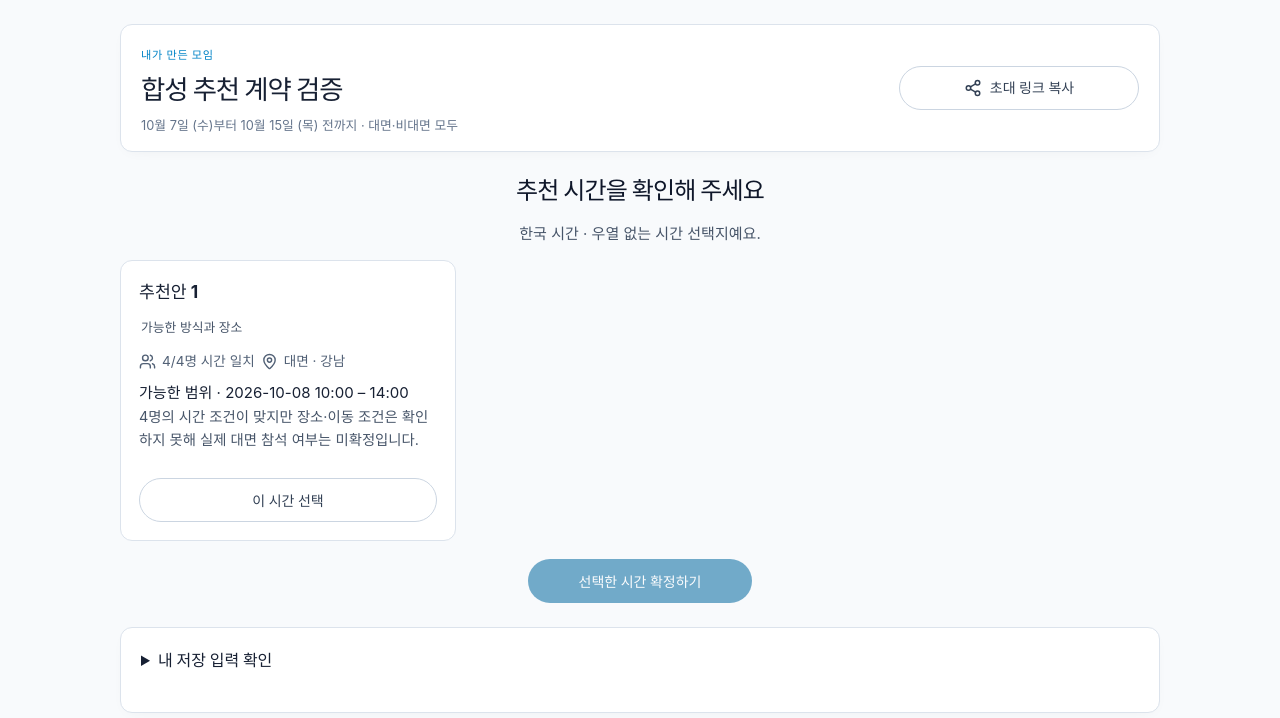
#19 native confirmation and saved selection › keeps uncertainty throughout mocked candidate selection, confirmation API, and saved result
Check: the text "4명의 시간 조건이 맞지만 장소·이동 조건은 확인하지 못해 실제 대면 참석 여부는 미확정입니다." is shown, box [139,405,437,451]
Click the button "이 시간 선택" at (288, 500), box [139,478,437,522]
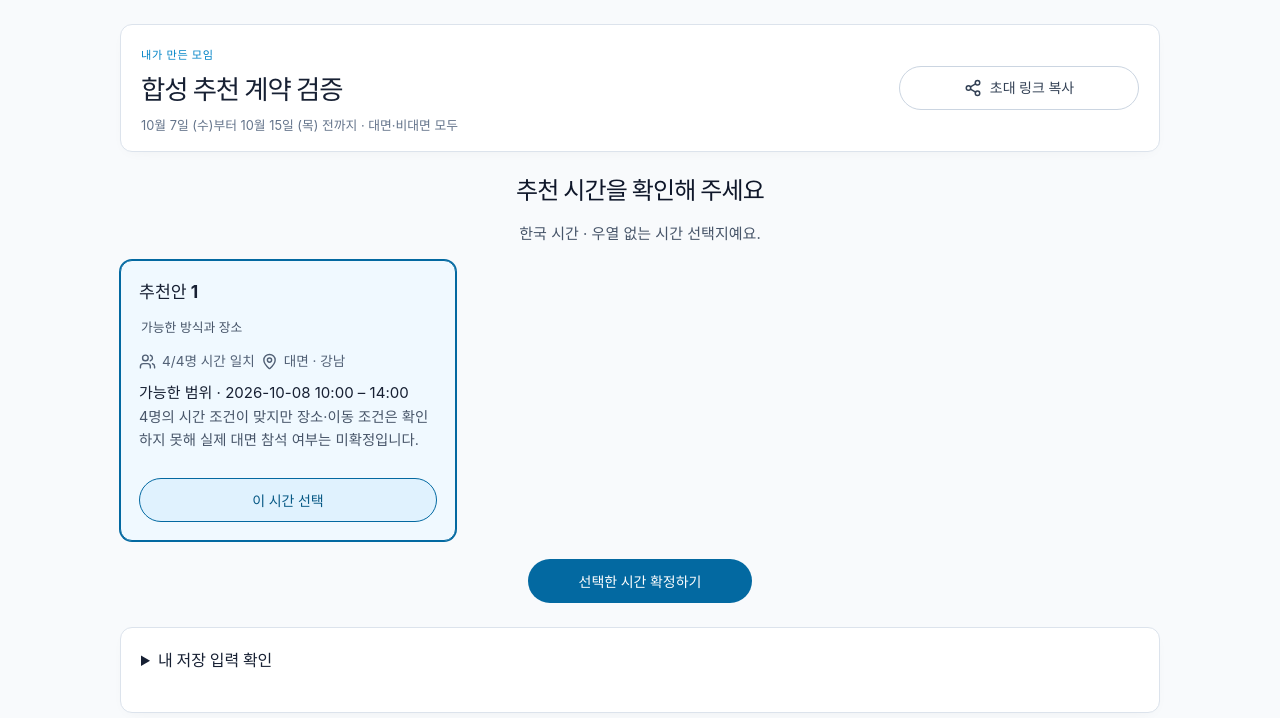
Click the button "선택한 시간 확정하기" at (640, 581), box [528,559,752,603]
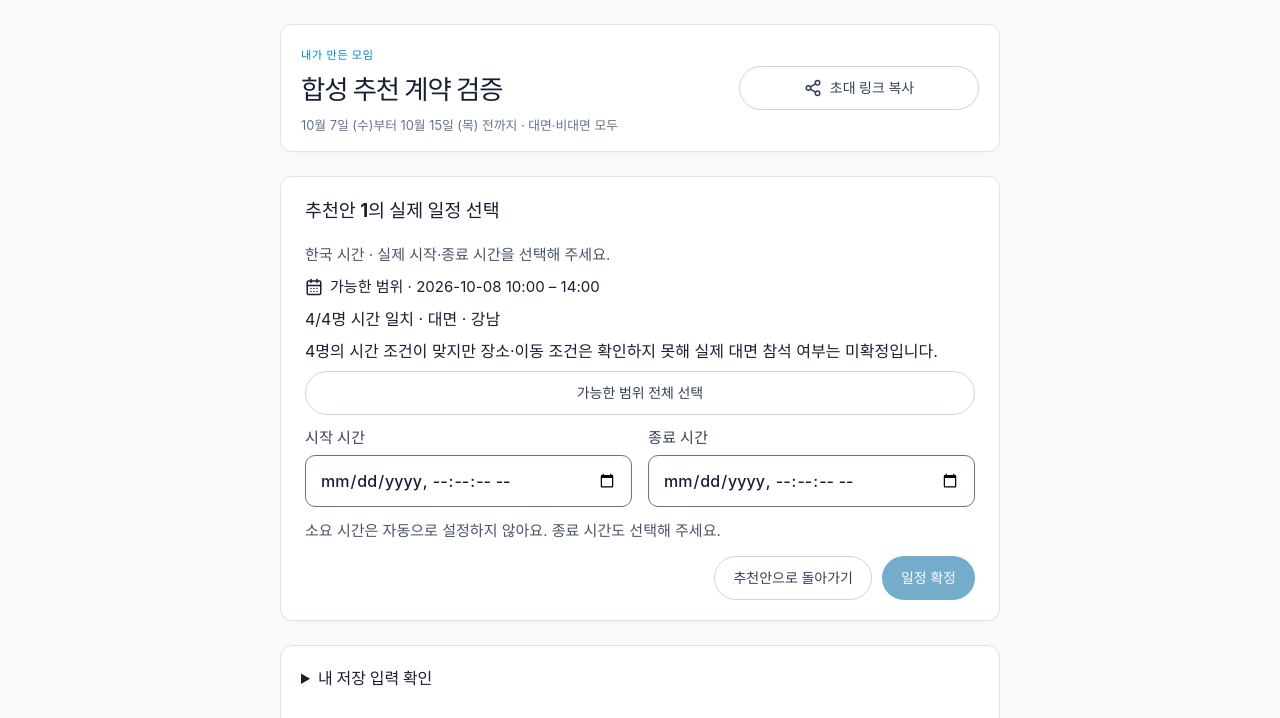
Check: the text "4명의 시간 조건이 맞지만 장소·이동 조건은 확인하지 못해 실제 대면 참석 여부는 미확정입니다." is shown, box [305,339,975,363]
Type "2026-10-08T10:30" into the field labelled "시작 시간" at (468, 482), box [305,456,632,508]
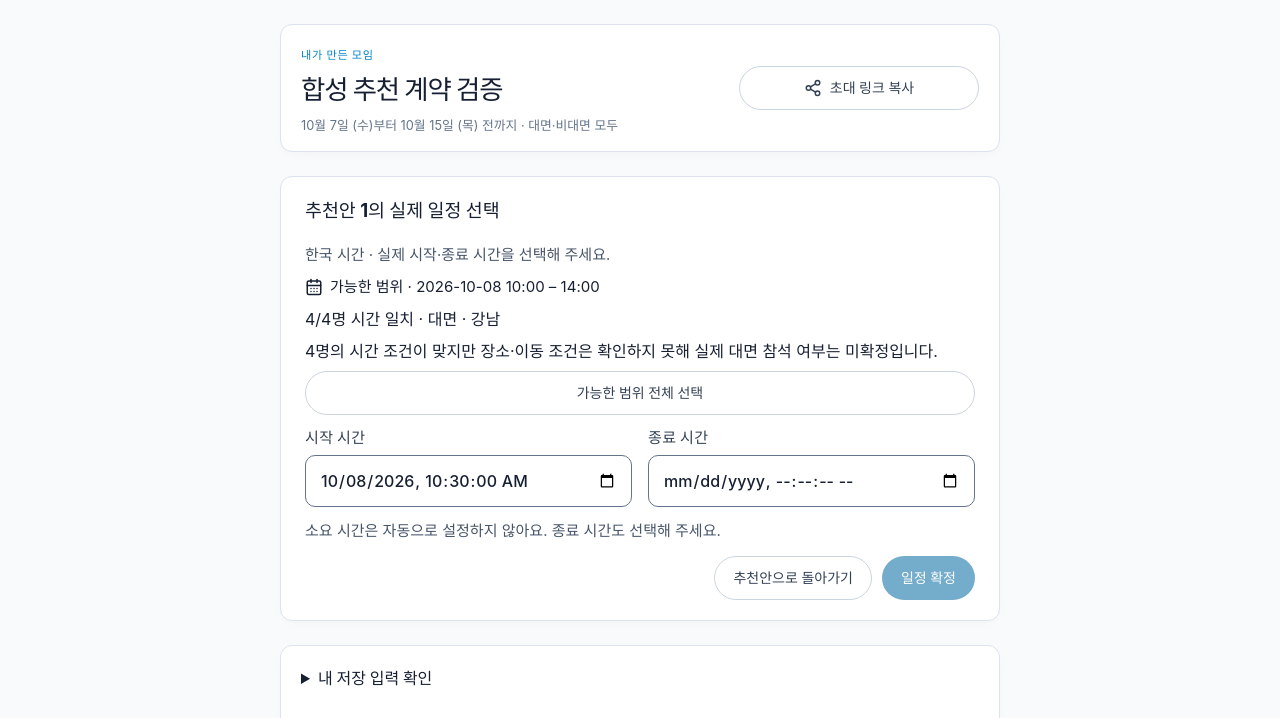
Type "2026-10-08T11:15" into the field labelled "종료 시간" at (812, 482), box [648,456,975,508]
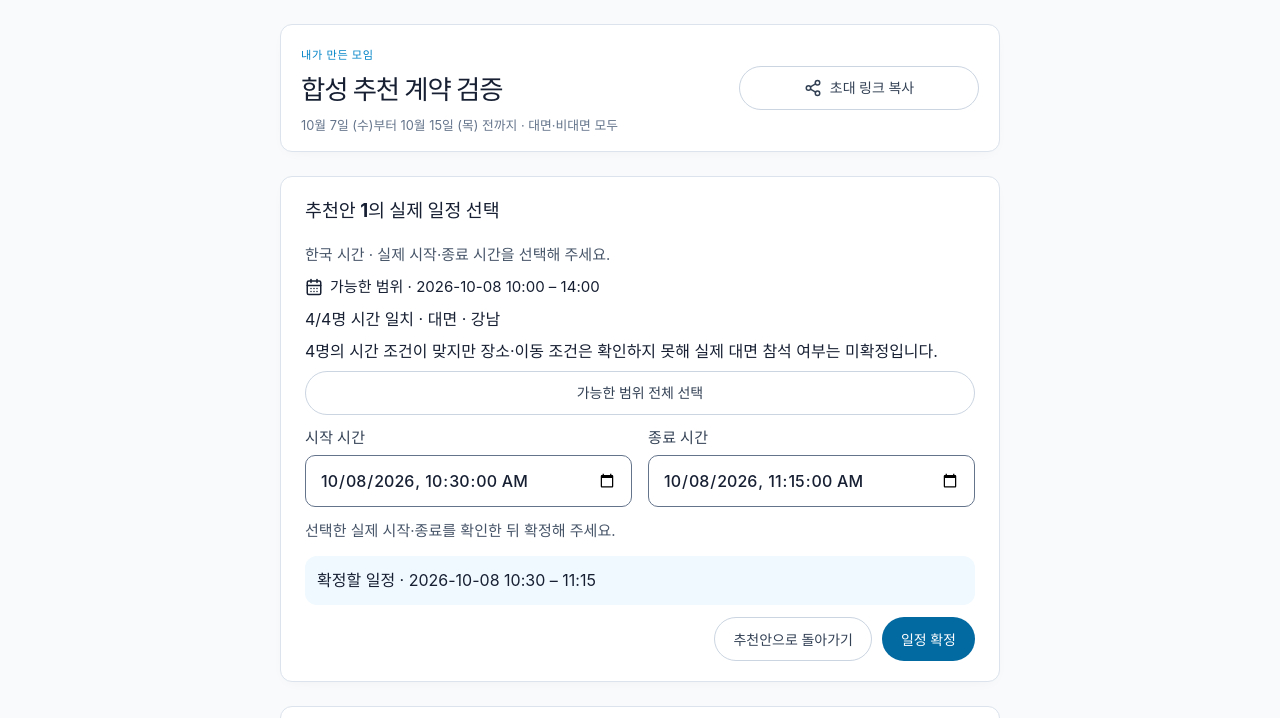
Click the button "일정 확정" at (928, 639), box [882,617,975,661]
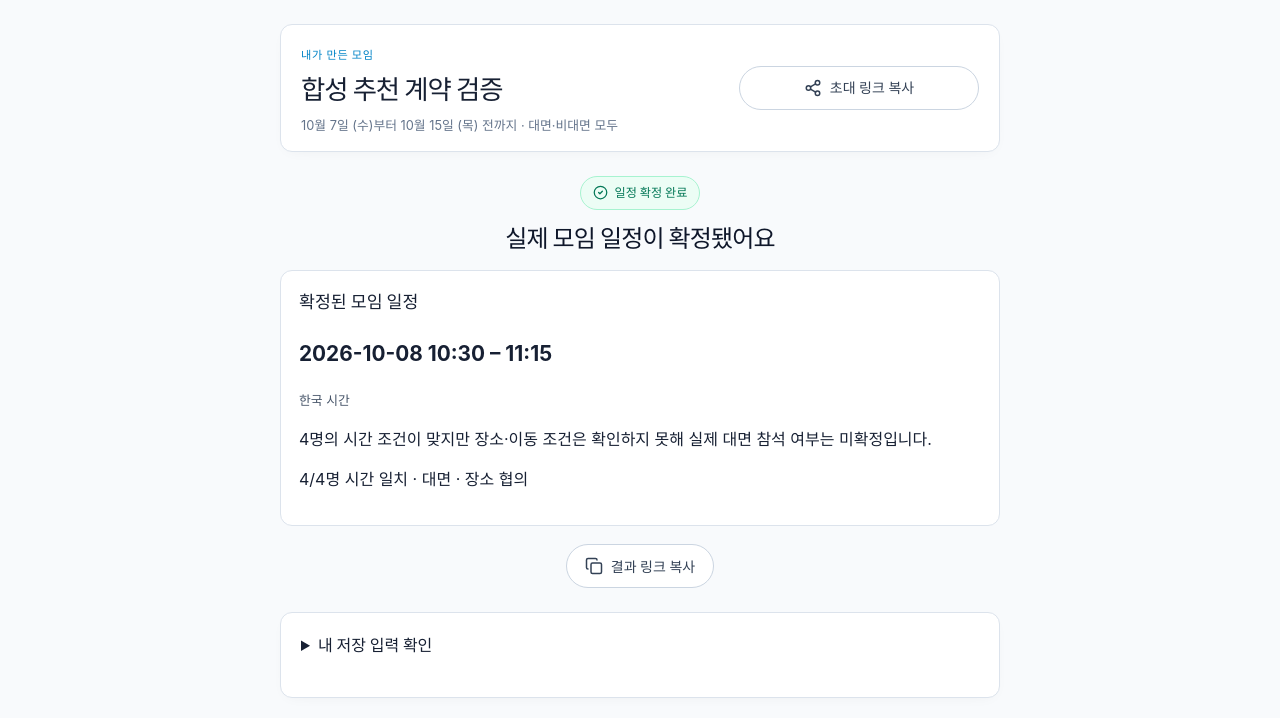
Check: the heading "실제 모임 일정이 확정됐어요" is shown, box [505,224,775,253]
Check: the text "4명의 시간 조건이 맞지만 장소·이동 조건은 확인하지 못해 실제 대면 참석 여부는 미확정입니다." is shown, box [299,427,981,451]
Check: the text "4/4명 시간 일치 · 대면 · 장소 협의" is shown, box [299,469,528,489]
